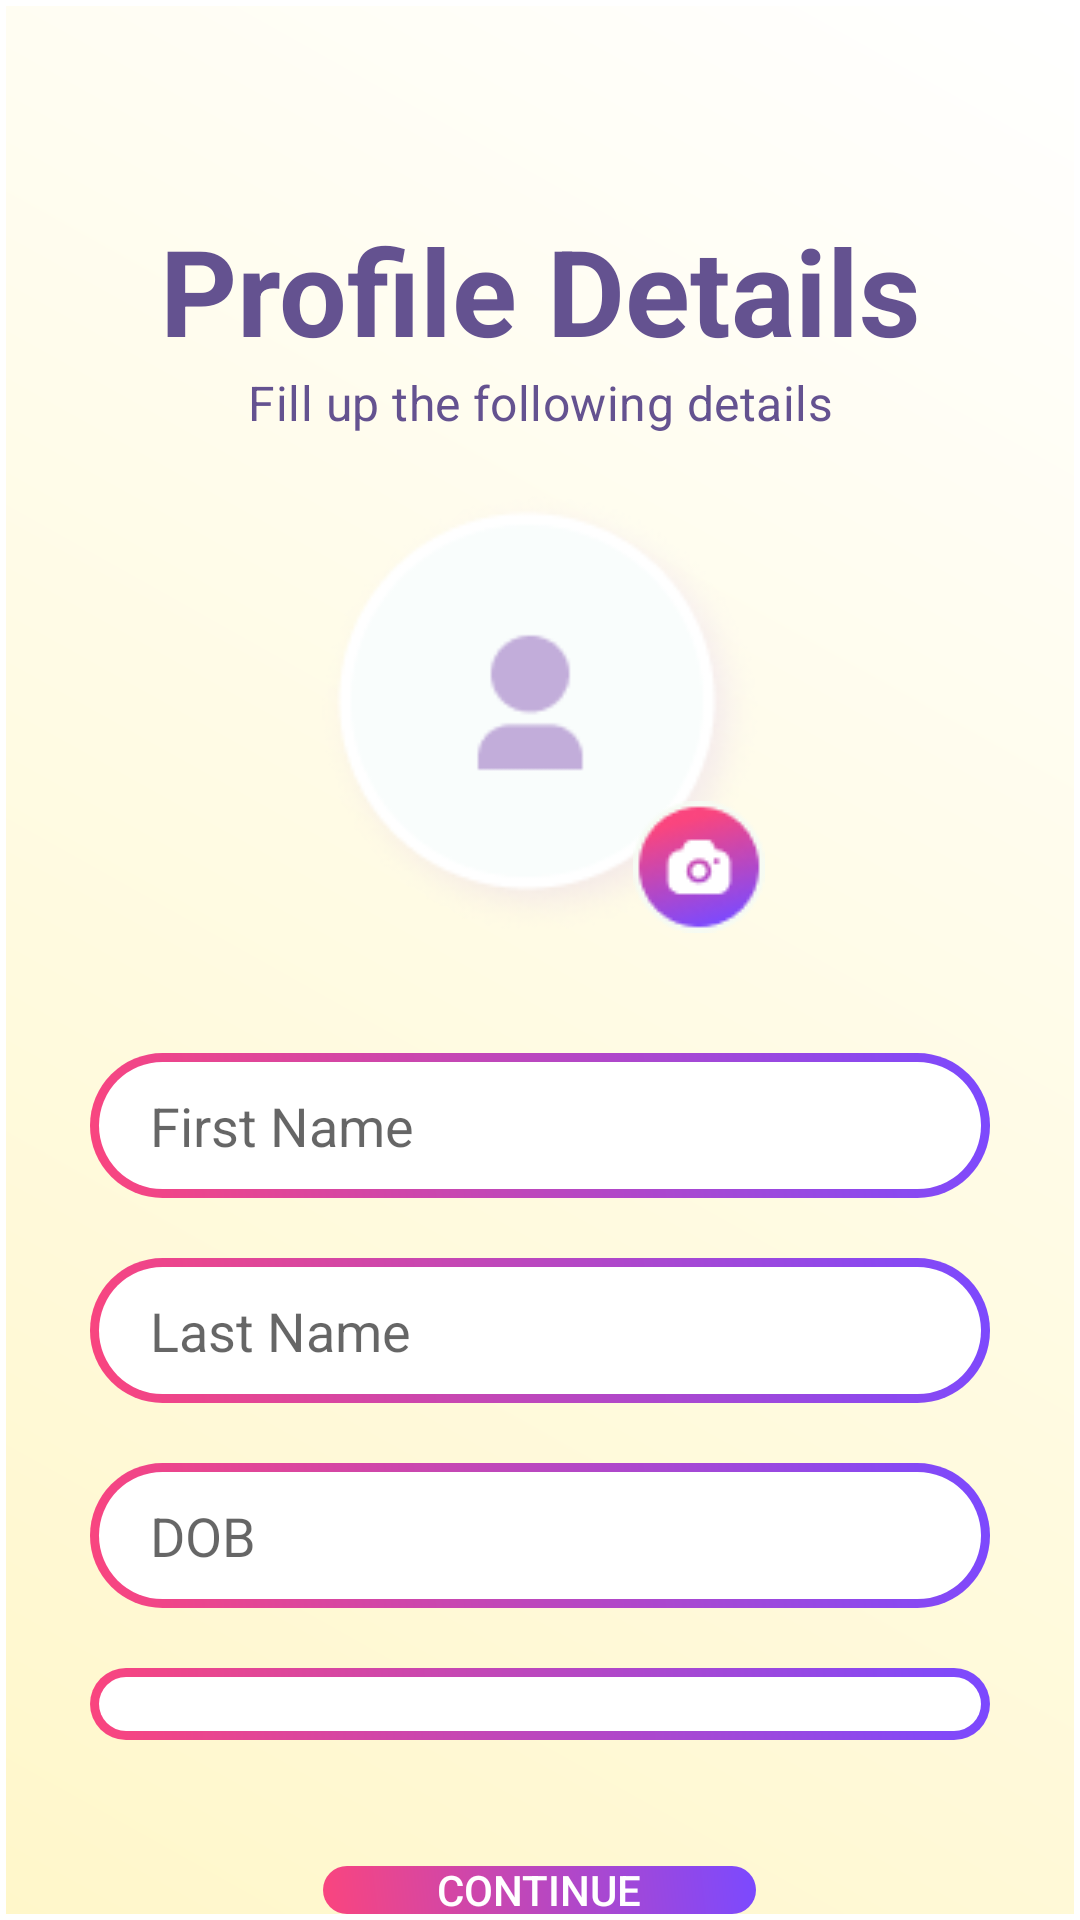

Icons on this 1080px×1920px Android screen, each with its box as (x1, y1, x2, y2):
camera: (638, 806, 760, 928)
